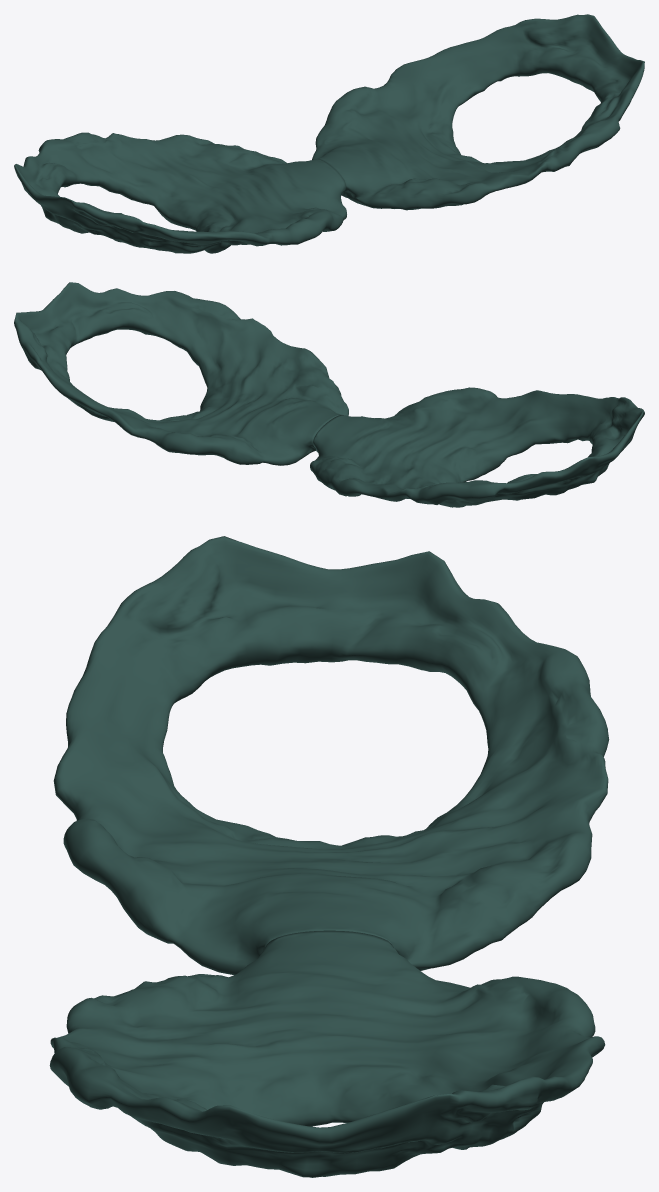
File: New_Core.fbx
The picture shows the model from 3 angles, top to bottom: view 1: azimuth 30°, elevation 25°; view 2: azimuth 150°, elevation 25°; view 3: azimuth 270°, elevation 25°; orthographic projection. The views are drawn at different scales.
Parts seen in each view (by area): view 1: Core Sand.002, Core Sand.001; view 2: Core Sand.002, Core Sand.001; view 3: Core Sand.001, Core Sand.002.
Boxes of the visible parts, x1,y1,x2,y2 form: Core Sand.002: [312, 14, 644, 210]; Core Sand.001: [14, 132, 346, 253]; Core Sand.002: [14, 282, 348, 465]; Core Sand.001: [310, 387, 644, 507]; Core Sand.001: [53, 536, 609, 975]; Core Sand.002: [49, 930, 605, 1177].
Bounding box in the file's own units: 1749 × 273 × 734.
